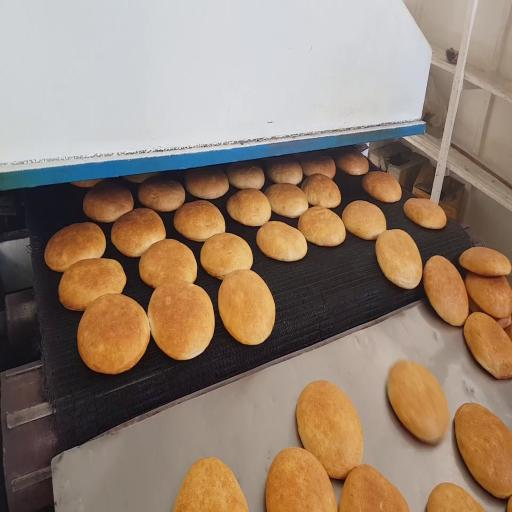bread: (296, 381, 363, 479), (78, 294, 149, 374), (455, 403, 511, 498), (148, 280, 214, 360), (387, 361, 450, 443), (266, 448, 336, 511), (218, 270, 275, 345), (174, 458, 248, 511), (59, 258, 126, 310), (339, 465, 409, 511), (423, 256, 468, 326), (464, 312, 511, 378), (45, 222, 106, 272), (139, 239, 197, 288), (376, 229, 422, 289), (111, 208, 165, 257), (201, 233, 253, 279), (465, 272, 511, 318), (83, 181, 133, 222), (174, 201, 225, 241), (257, 221, 307, 261), (298, 207, 345, 246), (138, 174, 185, 211), (342, 201, 386, 240), (227, 189, 271, 226), (427, 483, 484, 511), (459, 247, 511, 276), (265, 183, 308, 218), (185, 167, 229, 199), (301, 174, 341, 208), (404, 198, 446, 229), (362, 172, 401, 202), (226, 162, 264, 189), (267, 157, 302, 184), (335, 149, 369, 175), (299, 155, 335, 179), (124, 173, 158, 183), (72, 179, 103, 188), (468, 296, 482, 312), (505, 325, 511, 341), (507, 497, 511, 511)
